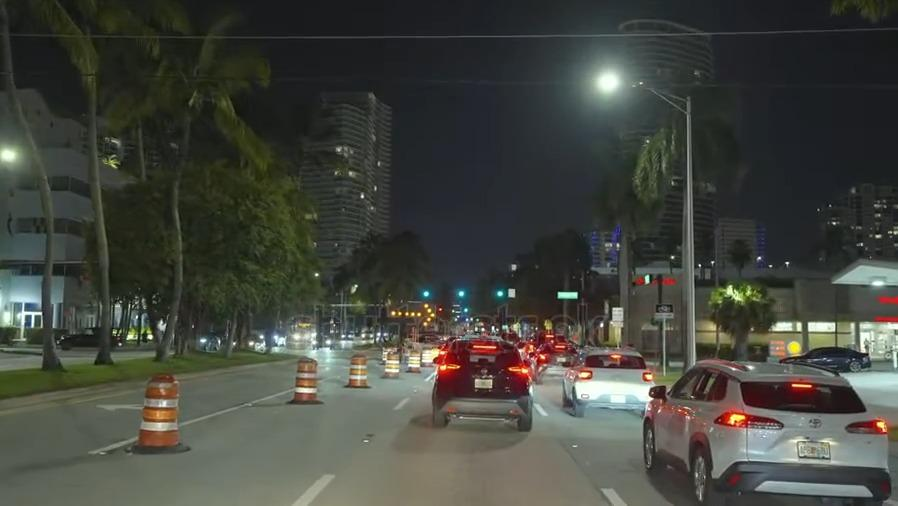arrow traffic sign: (381, 302, 440, 329)
car: (641, 358, 894, 504), (431, 338, 535, 427), (561, 345, 651, 411), (60, 322, 123, 352), (232, 332, 264, 355), (193, 330, 219, 352)
cone: (138, 371, 182, 453), (289, 355, 319, 402), (345, 352, 368, 387), (380, 349, 400, 379), (404, 348, 418, 370)
traffic light: (492, 283, 509, 307), (415, 285, 436, 303), (452, 284, 469, 304)
wheel: (776, 343, 874, 374), (530, 338, 573, 382), (685, 443, 711, 494), (638, 415, 662, 466)
